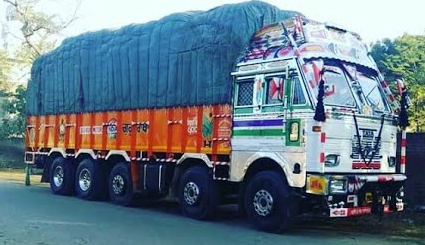truck: (23, 1, 407, 233)
